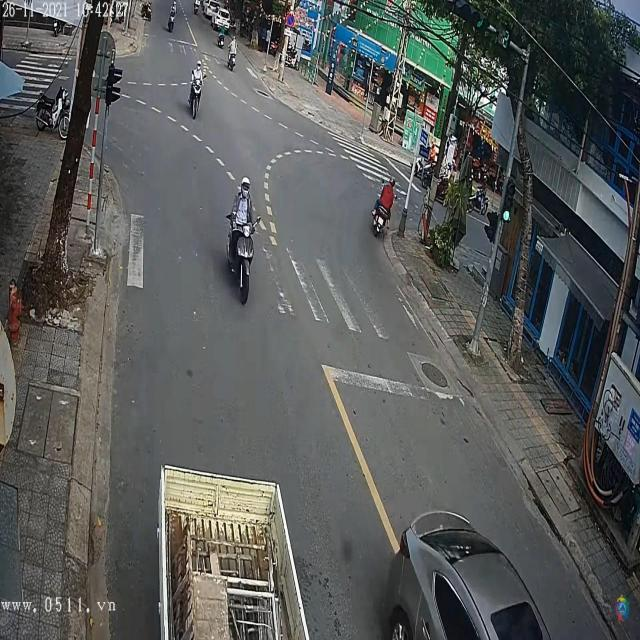motorcycle: (226, 206, 256, 305), (372, 185, 391, 242), (189, 76, 204, 123), (228, 48, 237, 71)
